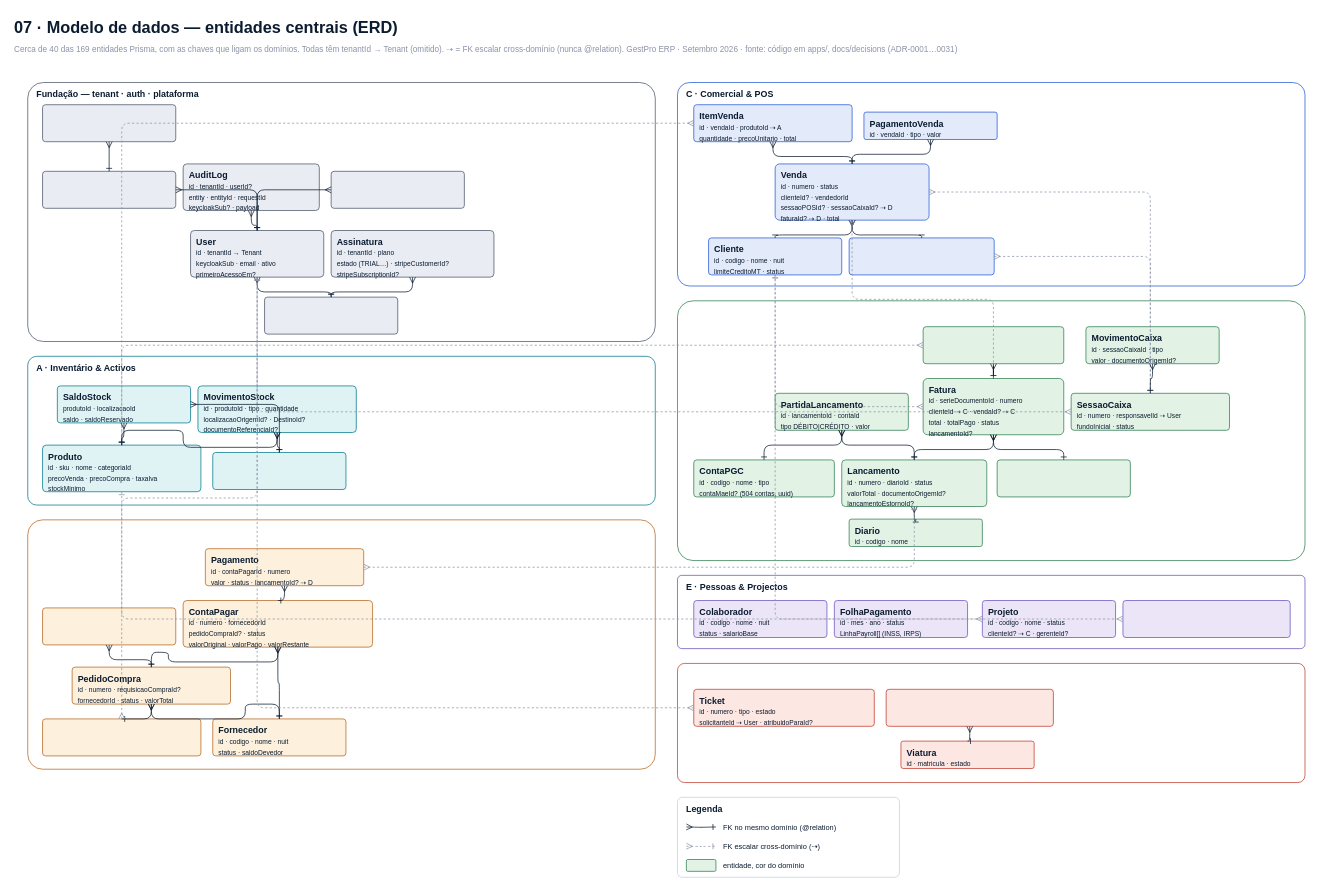
This 1318x890 diagram has some shape labels left out. The box of each missing label's shape, as (x1, y1, x2, y2) in pixels:
Atividade id · codigo · estado viaturaId? · motoristaResponsavelId?: (885, 689, 1053, 726)
B · Compras & Serviços: (27, 519, 655, 769)
D · Finanças: (677, 300, 1305, 561)
F · Operações: (677, 663, 1305, 783)
LinhaFatura id · faturaId · produtoId? ⇢ A quantidade · total: (922, 326, 1064, 364)
Localizacao id · codigo · nome · tipo localizacaoPaiId?: (212, 452, 346, 490)
Notificacao id · tenantId · userId tipo · estado · entidadeId?: (330, 171, 464, 208)
OrdemProducao id · numero · produtoId ⇢ A quantidade · status · custoRealizado: (1122, 600, 1290, 638)
Permission id · code (298) RolePermission ⇄ Role: (42, 104, 176, 142)
RecebimentoCompra id · pedidoCompraId · data → entradaStock + ContaPagar: (42, 607, 176, 645)
RequisicaoCompra id · numero · solicitanteId ⇢ User status · valorTotal: (42, 718, 201, 756)
Role id · tenantId · nome UserRole ⇄ User (N:N): (42, 171, 176, 208)
SerieDocumento id · tipo · prefixo proximoNumero (FOR UPDATE): (996, 459, 1130, 497)
SessaoPOS id · vendedorId · status sessaoCaixaId ⇢ D · totalVendas: (848, 237, 994, 275)
Tenant id · nome · slug · nuit deletedAt?: (264, 296, 398, 334)
